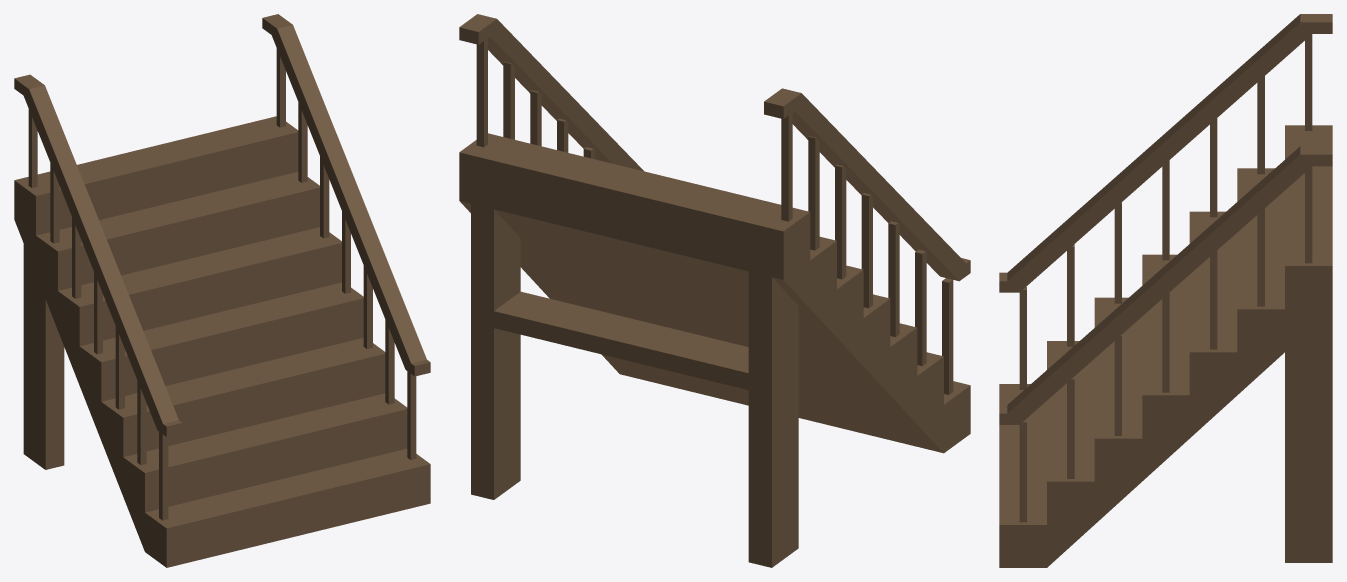
The model's file is stair.glb.
3 views of the same model, side by side, from view 1: azimuth 30°, elevation 25°; view 2: azimuth 150°, elevation 25°; view 3: azimuth 270°, elevation 25° (orthographic). The views are drawn at different scales.
Parts seen in each view (by area): view 1: Stair; view 2: Stair; view 3: Stair.
Part boxes in pixels (bbox=[...]): Stair: bbox=[14, 14, 430, 567]; Stair: bbox=[459, 14, 970, 567]; Stair: bbox=[999, 14, 1332, 567].
Size of the model in its own units: 2 by 2.74 by 2.
Materials: 1 (1 with a texture image).
